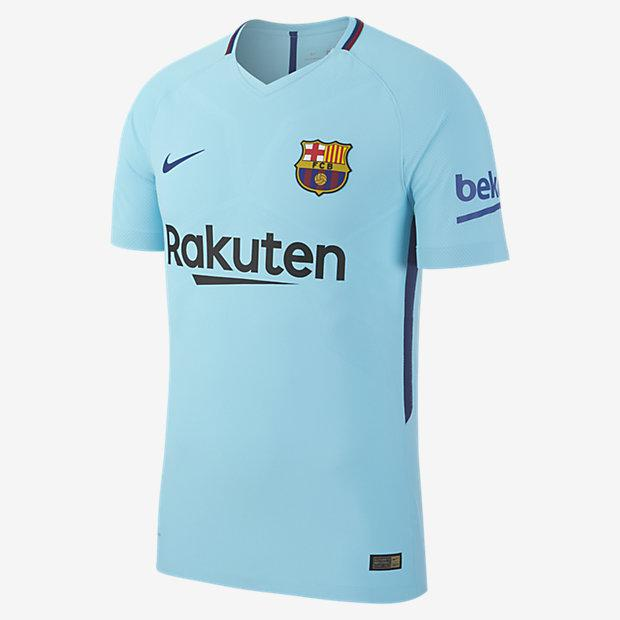teeshirt: (98, 9, 512, 608)
